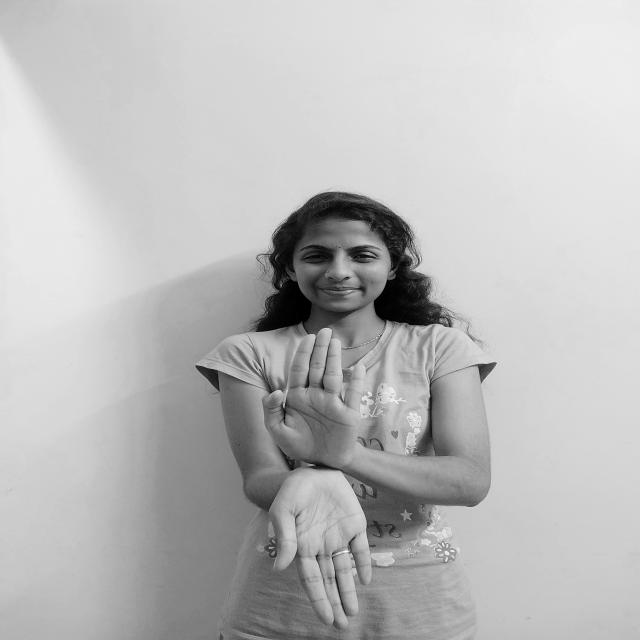Morning: (259, 326, 382, 634)
